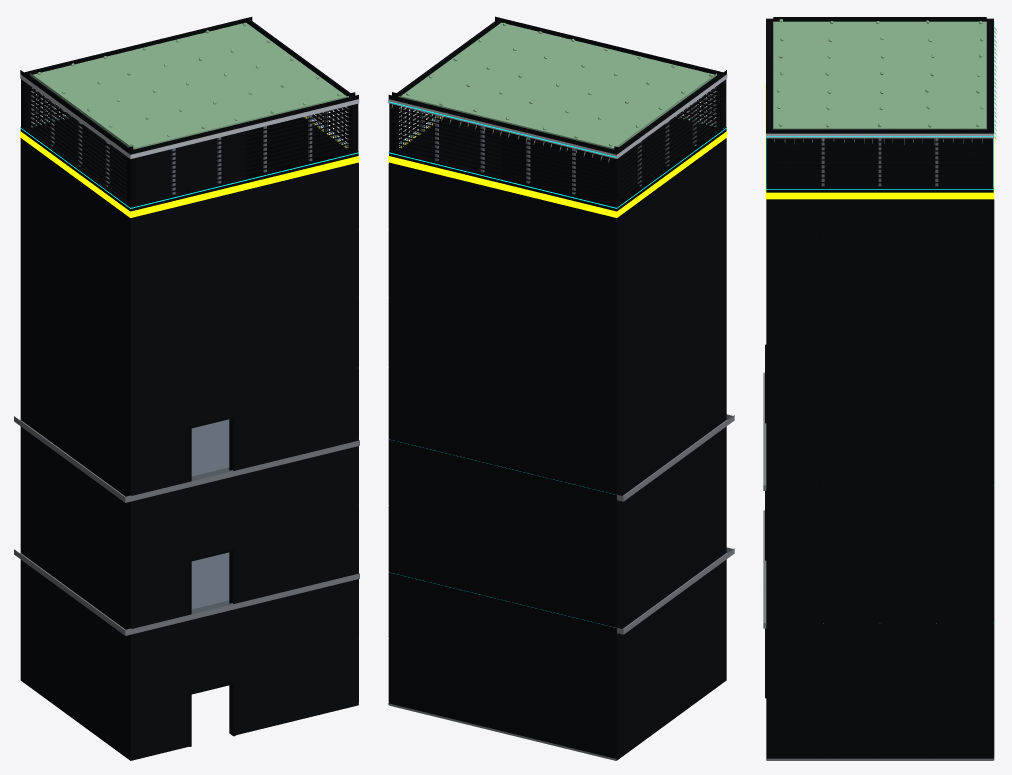
The model's file is tt_services_plant_stack_m.glb.
3 views of the same model, side by side, from view 1: azimuth 30°, elevation 25°; view 2: azimuth 150°, elevation 25°; view 3: azimuth 270°, elevation 25° (orthographic). The views are drawn at different scales.
Visible parts, largest first — view 1: Stack_Walls, Sedum_Roof, Louvre_Blades, Bird_Net_Scissor, Slab_Closure, Stack_Gratings, Cap_Rim, Hazard_Band, Cap_Slab, Door_Frames, Louvre_Posts, Louvre_Mullions; view 2: Clad_Panels, Stack_Walls, Sedum_Roof, Louvre_Blades, Bird_Net_Scissor, Cap_Rim, Hazard_Band, Slab_Closure, Cap_Slab, Louvre_Posts, Louvre_Mullions, Clad_Plinth; view 3: Clad_Panels, Sedum_Roof, Stack_Walls, Louvre_Blades, Cap_Rim, Bird_Net_Scissor, Hazard_Band, Cap_Slab, Louvre_Posts, Slab_Closure, Clad_Plinth, Louvre_Mullions (+1 smaller).
Boxes of the visible parts, x1,y1,x2,y2 form: Stack_Walls: [20, 117, 358, 760]; Sedum_Roof: [30, 23, 348, 149]; Louvre_Blades: [25, 85, 351, 200]; Bird_Net_Scissor: [30, 86, 348, 201]; Slab_Closure: [14, 416, 359, 635]; Stack_Gratings: [191, 419, 232, 614]; Cap_Rim: [20, 17, 358, 154]; Hazard_Band: [20, 116, 359, 217]; Cap_Slab: [20, 28, 359, 158]; Door_Frames: [189, 415, 235, 746]; Louvre_Posts: [21, 79, 358, 206]; Louvre_Mullions: [50, 101, 327, 194]; Clad_Panels: [388, 163, 616, 758]; Stack_Walls: [389, 117, 726, 760]; Sedum_Roof: [398, 22, 716, 149]; Louvre_Blades: [395, 84, 722, 200]; Bird_Net_Scissor: [399, 86, 717, 201]; Cap_Rim: [388, 16, 726, 154]; Hazard_Band: [388, 116, 727, 217]; Slab_Closure: [617, 414, 734, 634]; Cap_Slab: [388, 33, 727, 158]; Louvre_Posts: [389, 79, 726, 206]; Louvre_Mullions: [419, 101, 696, 194]; Clad_Plinth: [388, 703, 616, 760]; Clad_Panels: [767, 199, 994, 758]; Sedum_Roof: [773, 19, 986, 129]; Stack_Walls: [766, 138, 993, 760]; Louvre_Blades: [774, 141, 985, 183]; Cap_Rim: [766, 17, 993, 133]; Bird_Net_Scissor: [774, 138, 985, 184]; Hazard_Band: [765, 84, 994, 199]; Cap_Slab: [766, 23, 993, 138]; Louvre_Posts: [766, 138, 993, 187]; Slab_Closure: [763, 372, 766, 628]; Clad_Plinth: [766, 758, 994, 760]; Louvre_Mullions: [821, 138, 938, 186].
Size of what is drawn, in the model's own units: 11.42 by 28 by 9.41.
10 materials, 5 textured.
